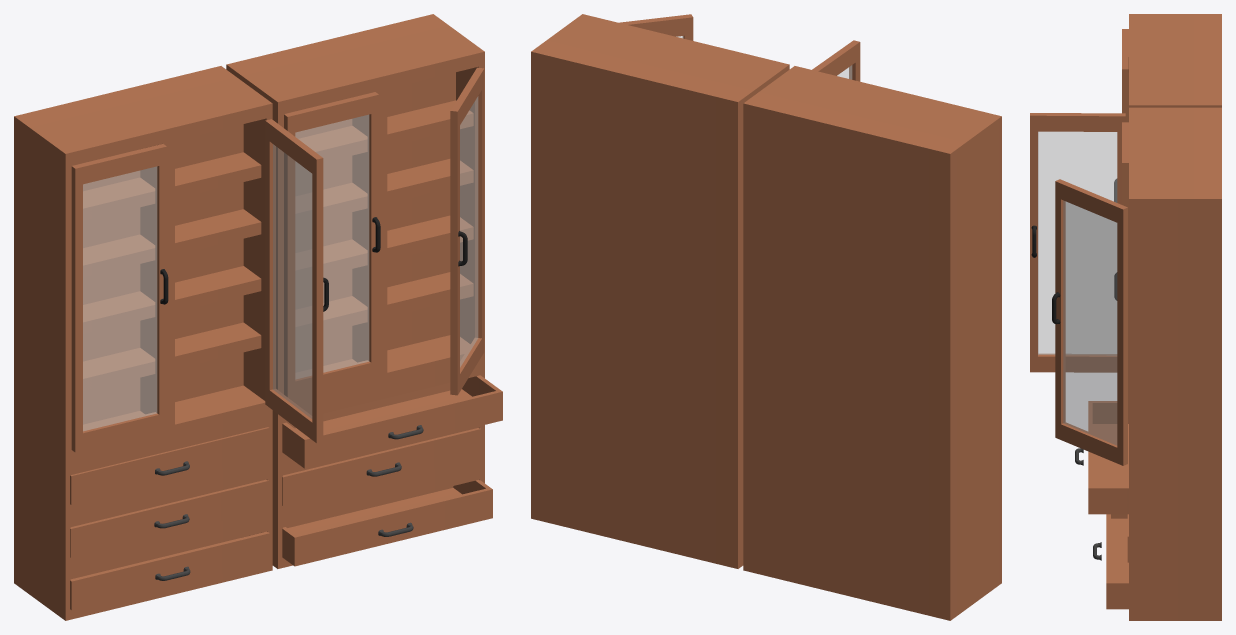
Rendered from shelfs.glb.
3 renders of one model, left to right at view 1: azimuth 30°, elevation 25°; view 2: azimuth 150°, elevation 25°; view 3: azimuth 270°, elevation 25°, orthographic. The views are drawn at different scales.
Parts seen in each view (by area): view 1: CHEMISTRYlabdemoscene_72, CHEMISTRYlabdemoscene_66, CHEMISTRYlabdemoscene_73, CHEMISTRYlabdemoscene_67, CHEMISTRYlabdemoscene_74, CHEMISTRYlabdemoscene_68, CHEMISTRYlabdemoscene_63, CHEMISTRYlabdemoscene_65, CHEMISTRYlabdemoscene_71, CHEMISTRYlabdemoscene_64, CHEMISTRYlabdemoscene_70, CHEMISTRYlabdemoscene_69; view 2: CHEMISTRYlabdemoscene_72, CHEMISTRYlabdemoscene_66, CHEMISTRYlabdemoscene_74, CHEMISTRYlabdemoscene_68; view 3: CHEMISTRYlabdemoscene_66, CHEMISTRYlabdemoscene_74, CHEMISTRYlabdemoscene_68, CHEMISTRYlabdemoscene_72, CHEMISTRYlabdemoscene_63, CHEMISTRYlabdemoscene_65, CHEMISTRYlabdemoscene_67, CHEMISTRYlabdemoscene_73.
Boxes of the visible parts, x1=… form: CHEMISTRYlabdemoscene_72: x1=14, y1=66, x2=272, y2=620; CHEMISTRYlabdemoscene_66: x1=226, y1=14, x2=484, y2=568; CHEMISTRYlabdemoscene_73: x1=71, y1=144, x2=168, y2=452; CHEMISTRYlabdemoscene_67: x1=284, y1=92, x2=380, y2=399; CHEMISTRYlabdemoscene_74: x1=265, y1=119, x2=328, y2=443; CHEMISTRYlabdemoscene_68: x1=450, y1=67, x2=484, y2=395; CHEMISTRYlabdemoscene_63: x1=282, y1=375, x2=502, y2=468; CHEMISTRYlabdemoscene_65: x1=282, y1=480, x2=492, y2=566; CHEMISTRYlabdemoscene_71: x1=70, y1=531, x2=269, y2=610; CHEMISTRYlabdemoscene_64: x1=282, y1=428, x2=481, y2=505; CHEMISTRYlabdemoscene_70: x1=70, y1=479, x2=268, y2=557; CHEMISTRYlabdemoscene_69: x1=70, y1=427, x2=269, y2=504; CHEMISTRYlabdemoscene_72: x1=743, y1=66, x2=1001, y2=620; CHEMISTRYlabdemoscene_66: x1=531, y1=14, x2=789, y2=568; CHEMISTRYlabdemoscene_74: x1=812, y1=40, x2=860, y2=81; CHEMISTRYlabdemoscene_68: x1=619, y1=14, x2=693, y2=40; CHEMISTRYlabdemoscene_66: x1=1129, y1=107, x2=1221, y2=620; CHEMISTRYlabdemoscene_74: x1=1030, y1=113, x2=1125, y2=372; CHEMISTRYlabdemoscene_68: x1=1052, y1=179, x2=1127, y2=465; CHEMISTRYlabdemoscene_72: x1=1129, y1=14, x2=1221, y2=107; CHEMISTRYlabdemoscene_63: x1=1075, y1=401, x2=1128, y2=514; CHEMISTRYlabdemoscene_65: x1=1093, y1=514, x2=1128, y2=609; CHEMISTRYlabdemoscene_67: x1=1114, y1=122, x2=1128, y2=419; CHEMISTRYlabdemoscene_73: x1=1114, y1=29, x2=1128, y2=202.
Bounding box in the file's own units: 1.76 × 1.87 × 0.771.
2 materials, 1 textured.
